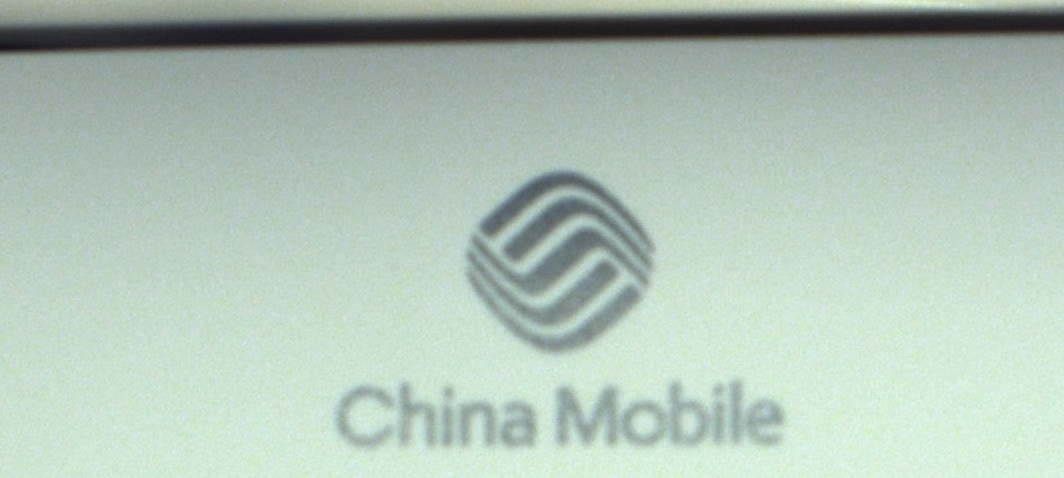AA_ChinaMobile: (311, 169, 790, 453)
